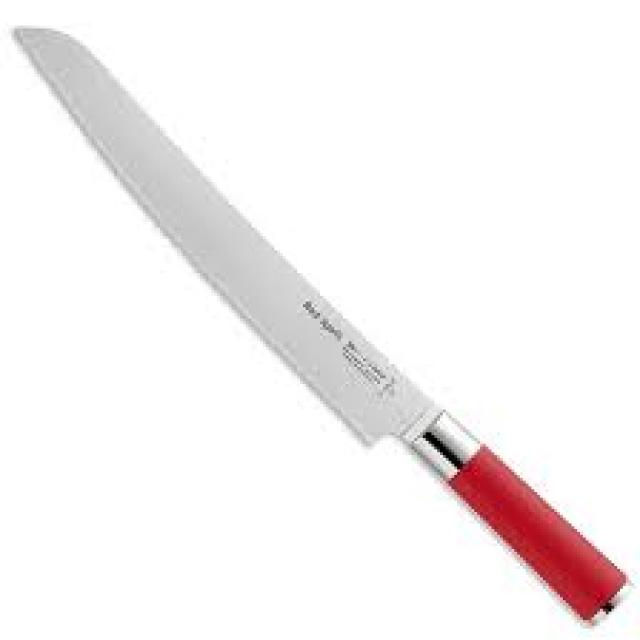Knife: (14, 26, 626, 626)
